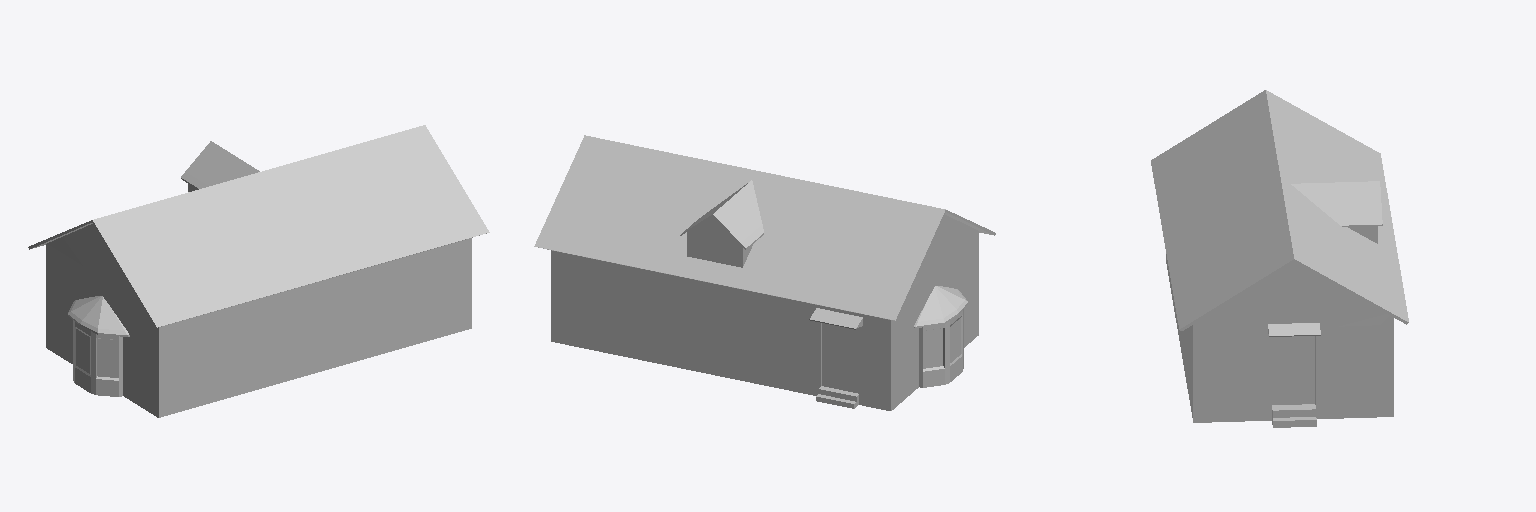
The model's file is cottage_blender.obj.
The picture shows the model from 3 angles: view 1: azimuth 30°, elevation 25°; view 2: azimuth 150°, elevation 25°; view 3: azimuth 270°, elevation 25°; orthographic projection.
Visible parts, largest first — view 1: Cube; view 2: Cube; view 3: Cube.
Part boxes in pixels (x1,y1,x2,y2): Cube: (28,125,489,417); Cube: (534,135,995,410); Cube: (1151,90,1408,427).
Size of the model in its own units: 33.93 by 14.67 by 20.74.